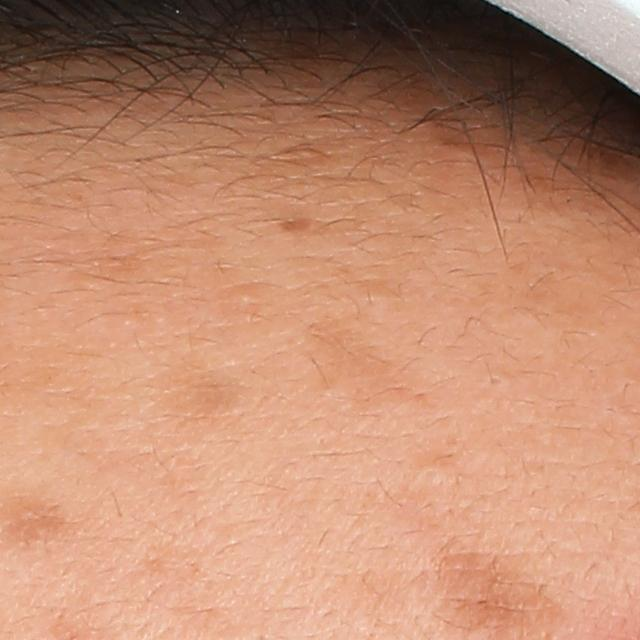comedo: (405, 453, 462, 493), (481, 373, 508, 390)
